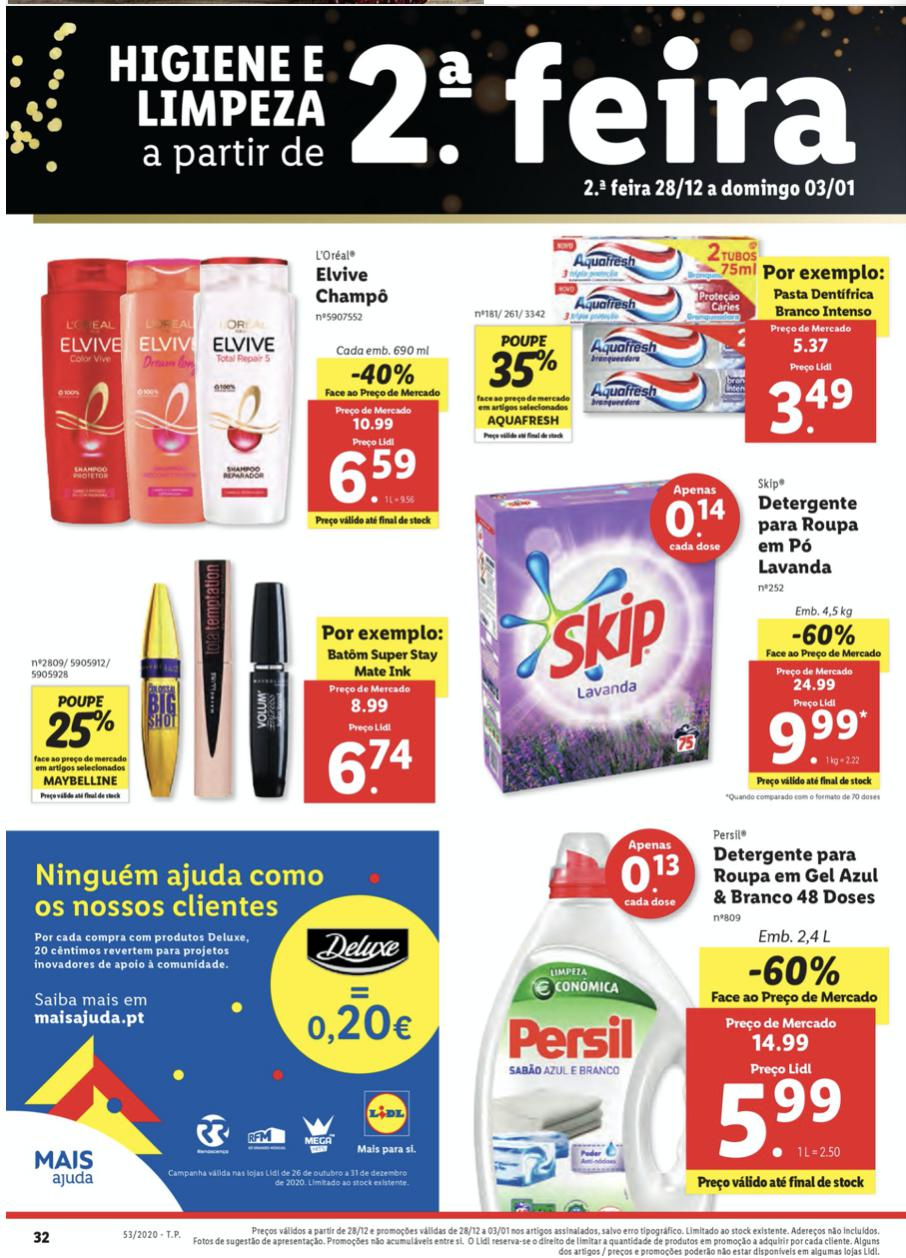name: (706, 844, 884, 912), (753, 494, 863, 581), (312, 261, 399, 317)
price: (718, 1069, 848, 1169), (765, 701, 863, 770), (326, 447, 426, 512), (760, 372, 859, 437), (334, 737, 423, 806)
product: (462, 822, 888, 1212), (465, 469, 888, 815), (3, 239, 451, 539), (12, 565, 456, 823), (465, 223, 901, 469)
promotion: (482, 342, 567, 398), (743, 950, 849, 990), (40, 705, 124, 753), (781, 626, 862, 651), (351, 362, 421, 390)
